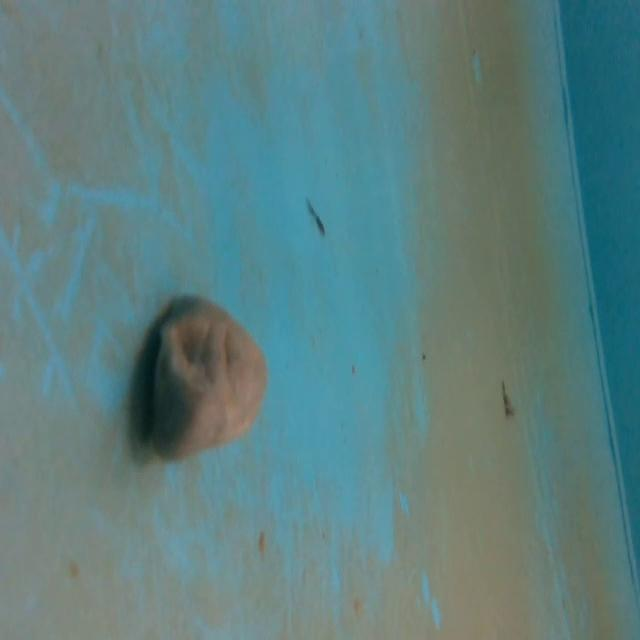rock: (138, 288, 272, 473)
